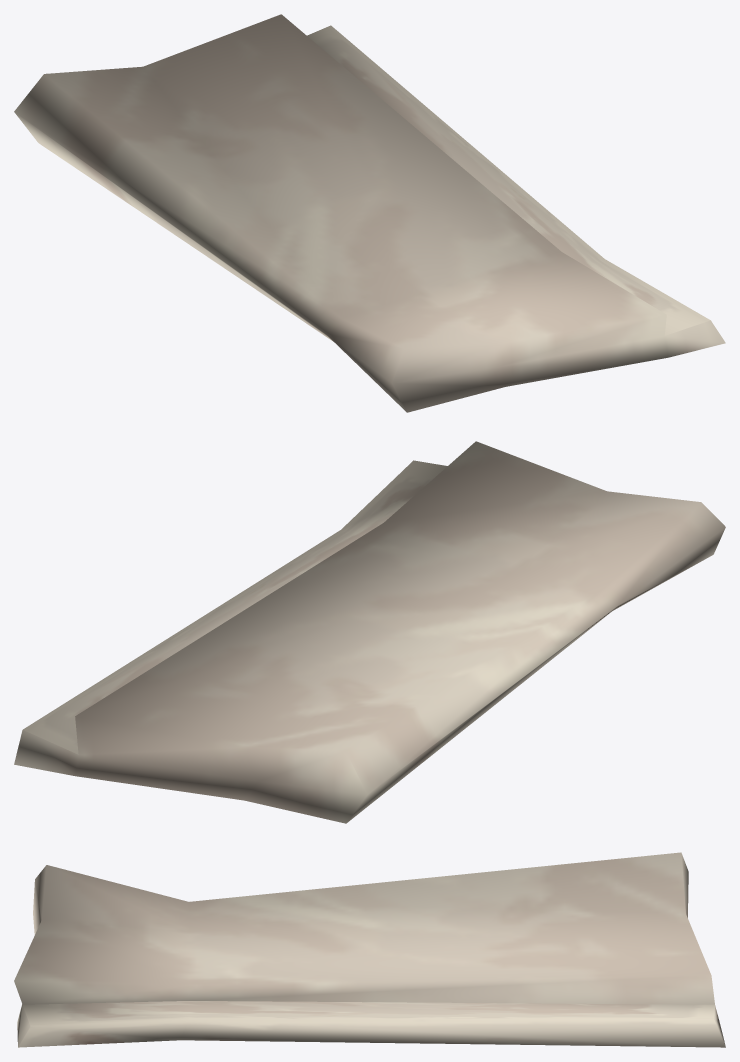
File: SM_PROP_napking_city_01.fbx
The picture shows the model from 3 angles, top to bottom: view 1: azimuth 30°, elevation 25°; view 2: azimuth 150°, elevation 25°; view 3: azimuth 270°, elevation 25°; orthographic projection. The views are drawn at different scales.
Parts seen in each view (by area): view 1: SM_PROP_napking_city_01; view 2: SM_PROP_napking_city_01; view 3: SM_PROP_napking_city_01.
Part boxes in pixels (box(x1,y1,x2,y2)): SM_PROP_napking_city_01: box(14, 14, 725, 412); SM_PROP_napking_city_01: box(14, 441, 725, 823); SM_PROP_napking_city_01: box(14, 852, 725, 1047).
Size of the model in its own units: 14.23 by 2.86 by 29.72.
